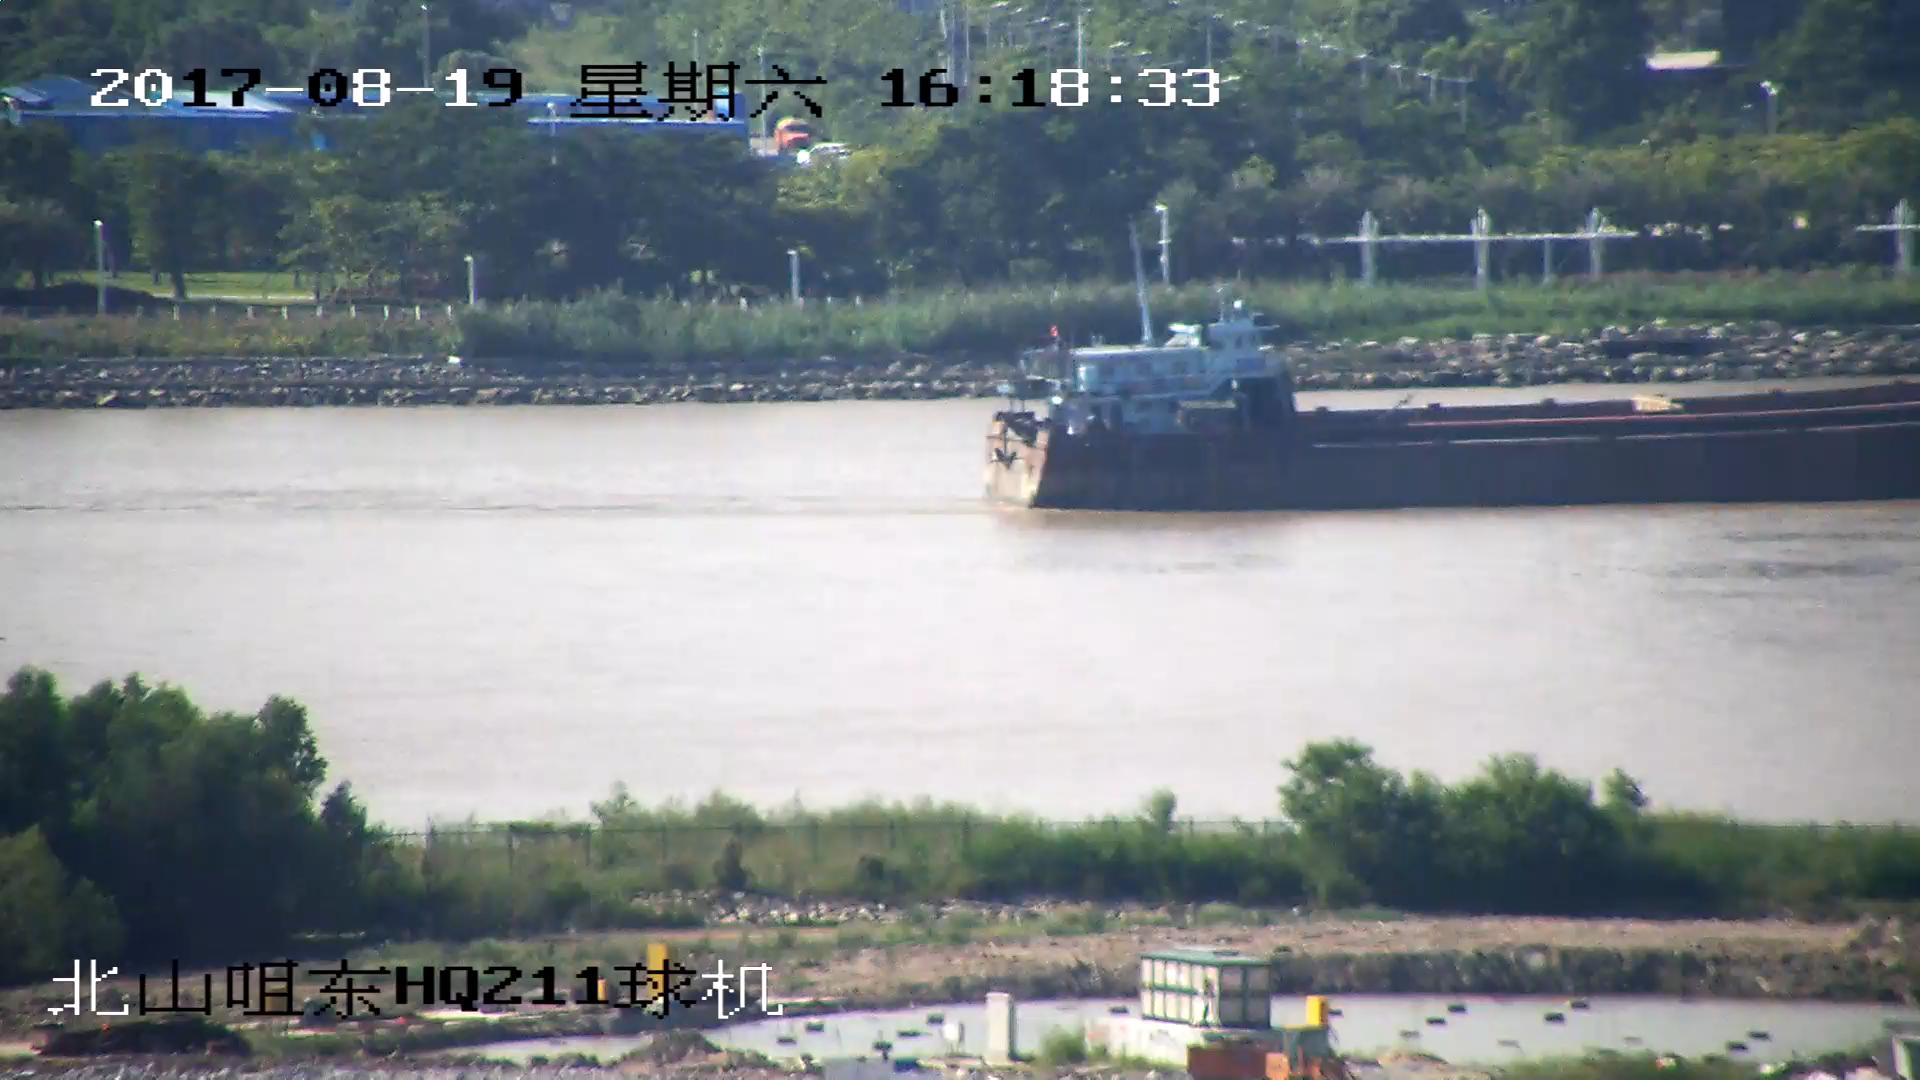bulk cargo carrier: (985, 319, 1920, 513)
